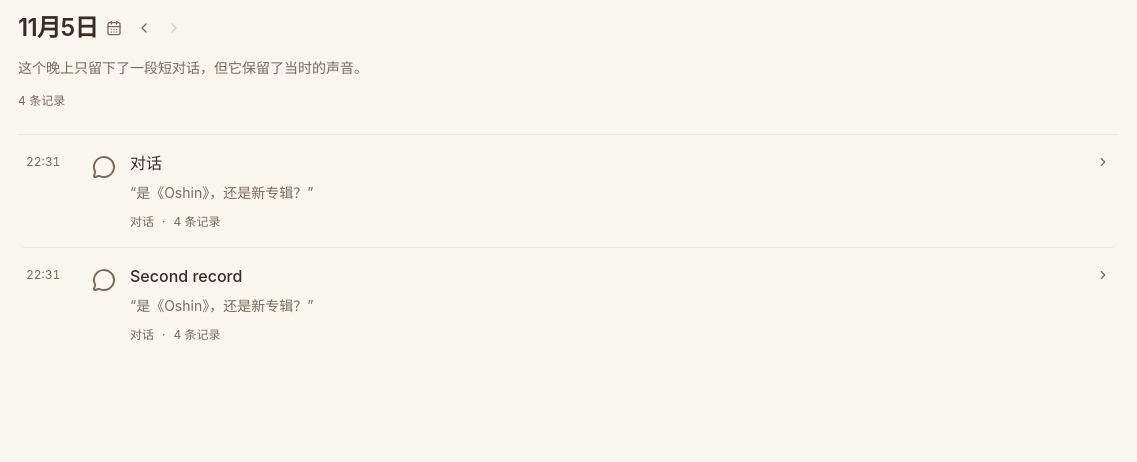
it: DaySceneReader › ignores a late response after closing and reopening another record
Click the button "22:31 对话 “是《Oshin》，还是新专辑？” 对话 · 4 条记录": (43, 162) [18,135,1118,248]
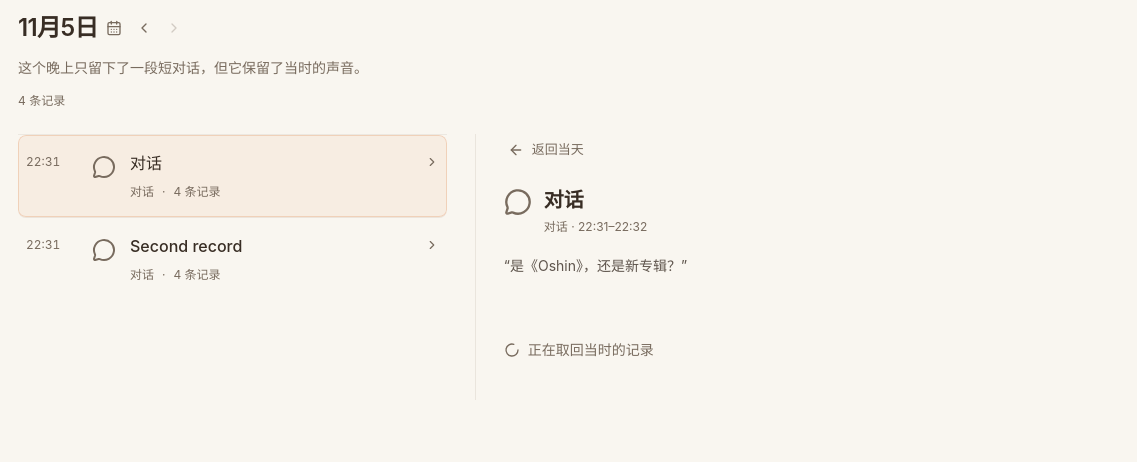
Click the button "返回当天": (546, 150) [504,134,588,166]
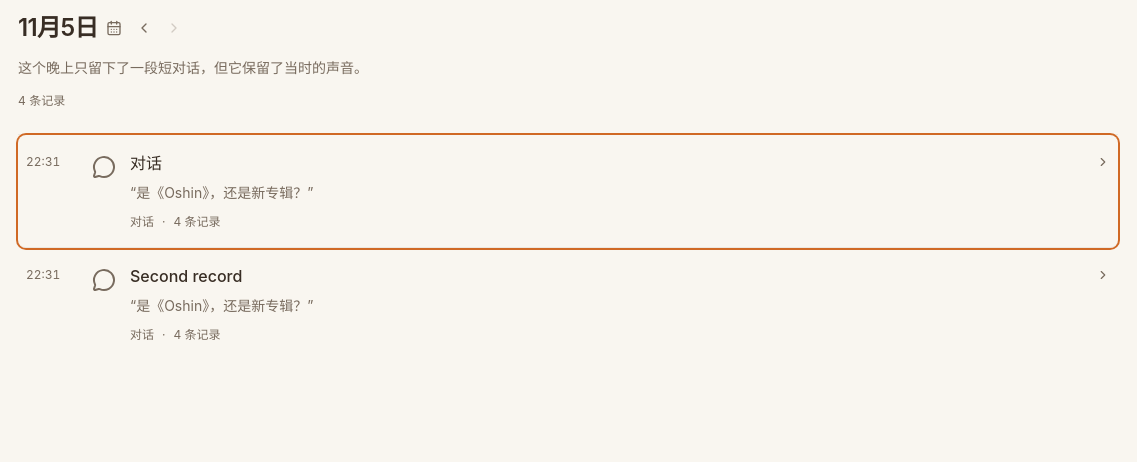
Click the button with aria-label "查看“Second record”的记录": (43, 274) [18,248,1118,360]
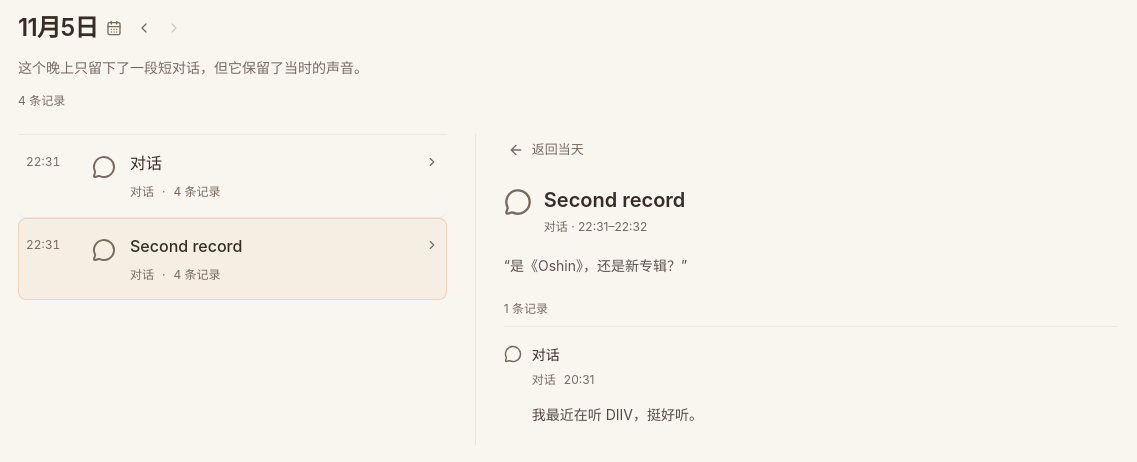
Expected: the text "我最近在听 DIIV，挺好听。" is shown, [532,406,703,422]
